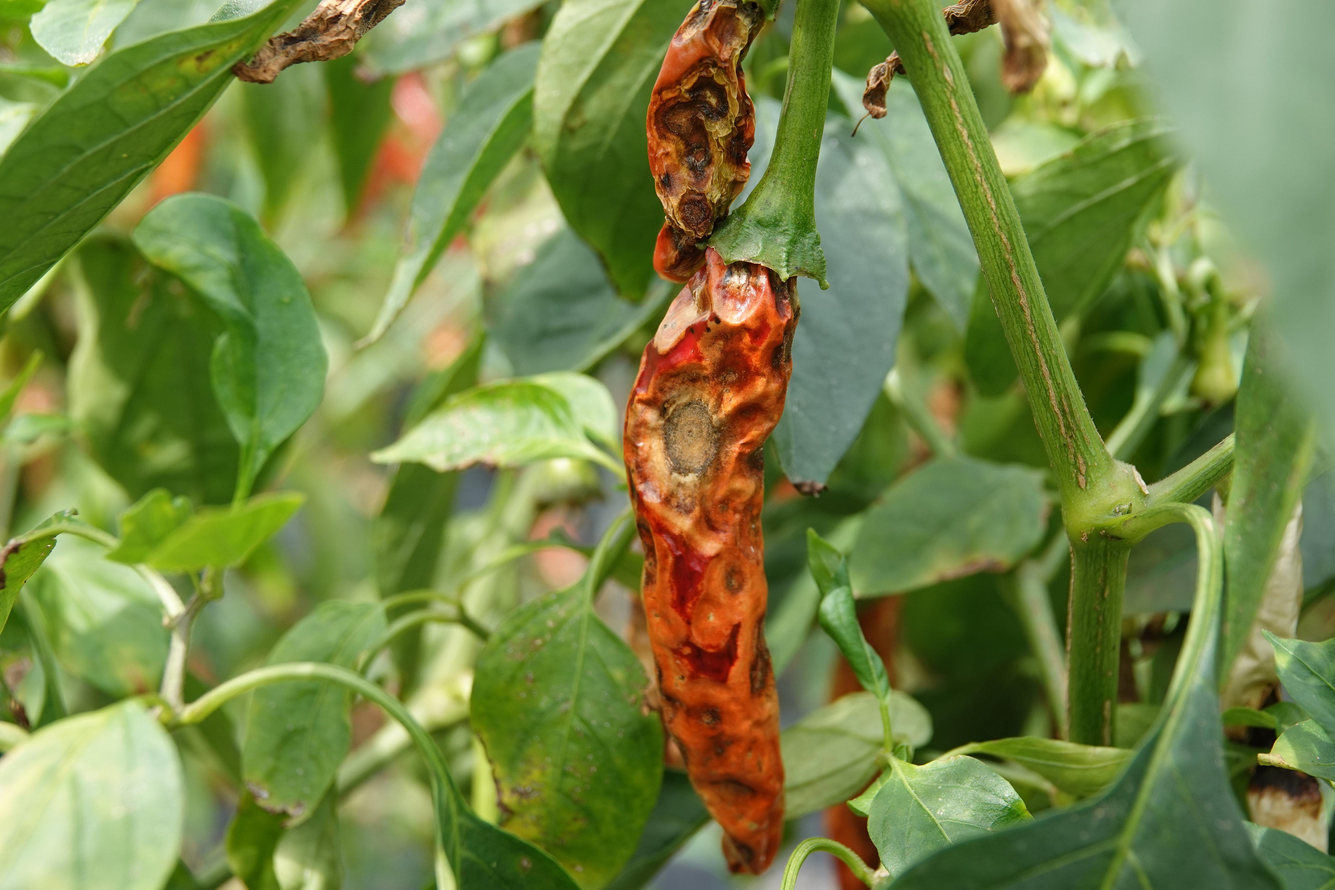Busuk Buah Antraknosa: (615, 223, 826, 890), (637, 1, 760, 264)
